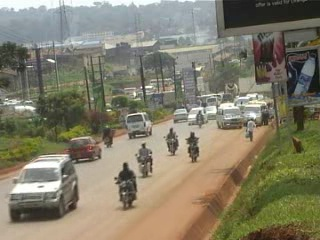Car: (5, 150, 81, 226), (67, 135, 104, 166), (187, 105, 210, 126), (169, 104, 189, 123), (203, 104, 218, 119)
Motorcycle: (112, 161, 140, 212), (130, 140, 155, 179), (184, 131, 206, 166), (162, 126, 180, 158), (100, 124, 117, 147), (194, 108, 204, 128)
